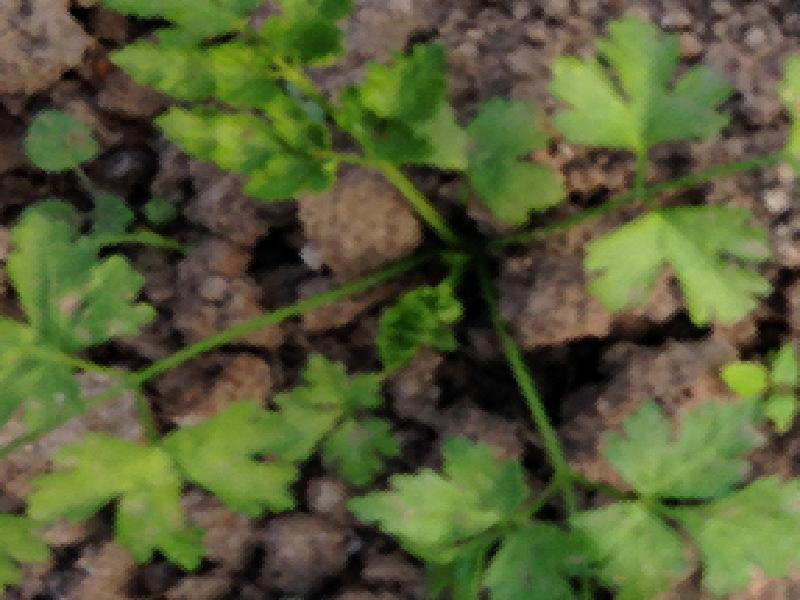radish: (0, 0, 759, 599)
